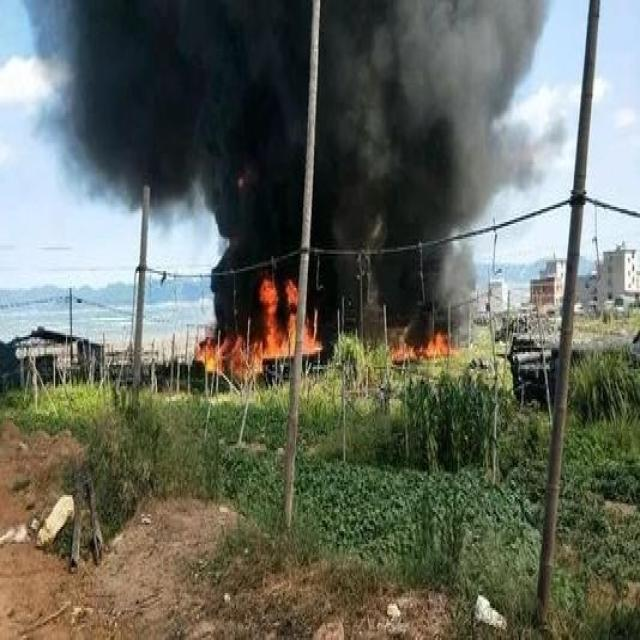Fire: (194, 277, 324, 380), (393, 330, 460, 362)
Smoke: (21, 2, 568, 344)
